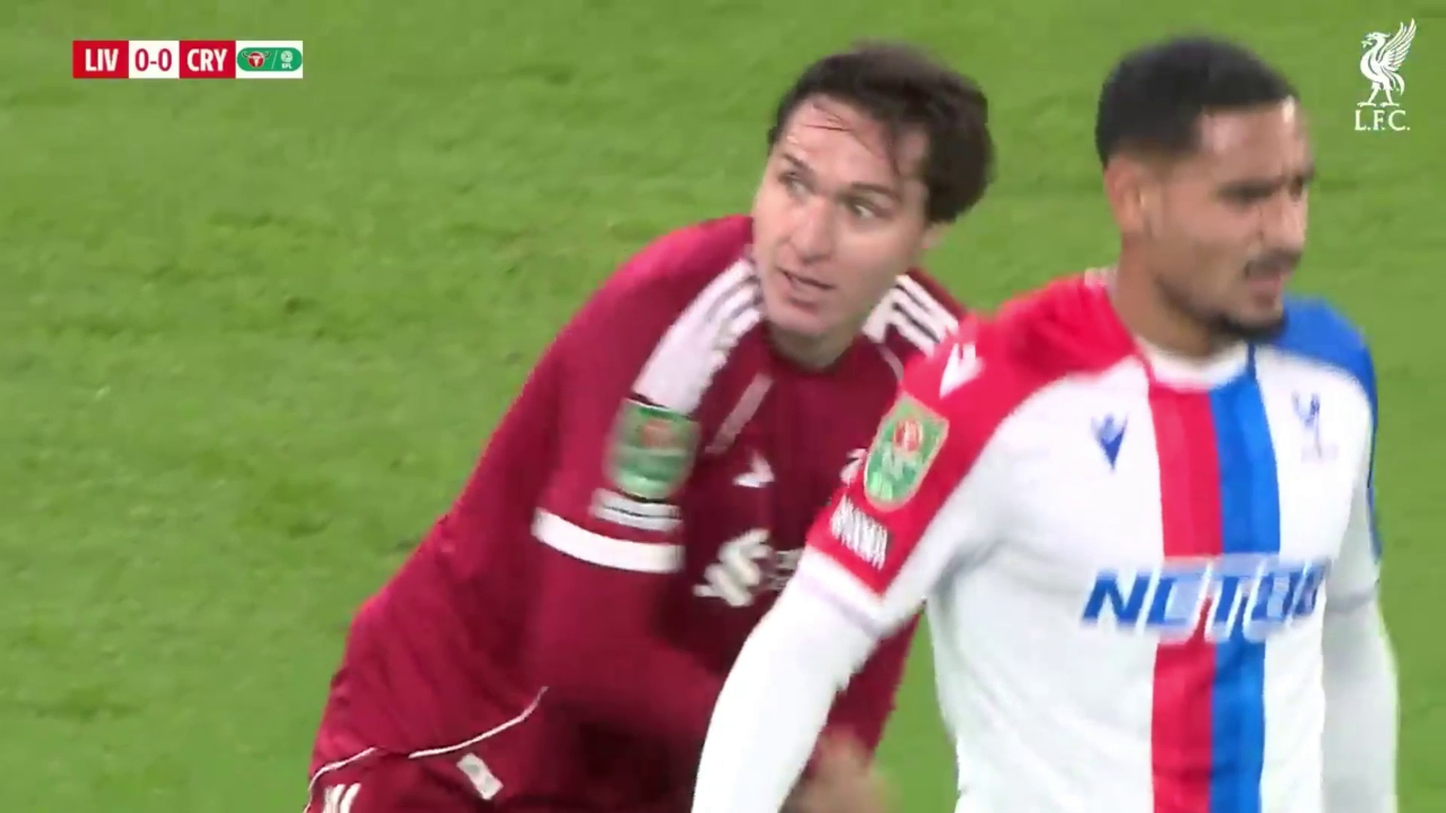player: (693, 36, 1397, 803), (306, 44, 1003, 802)
